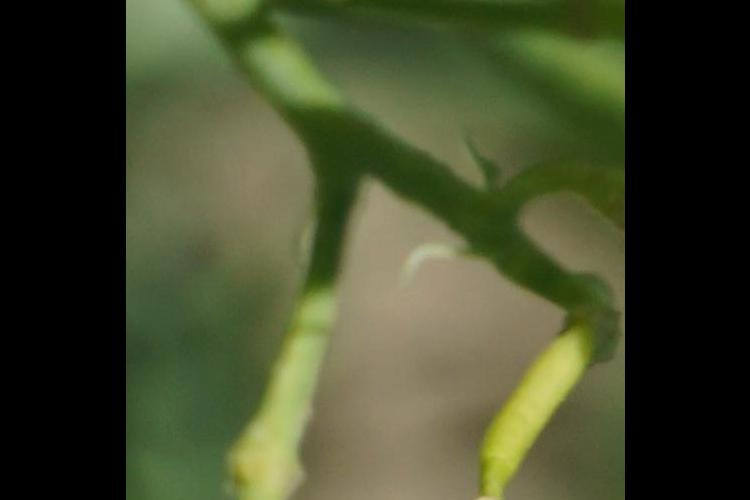pod: (455, 300, 609, 500)
